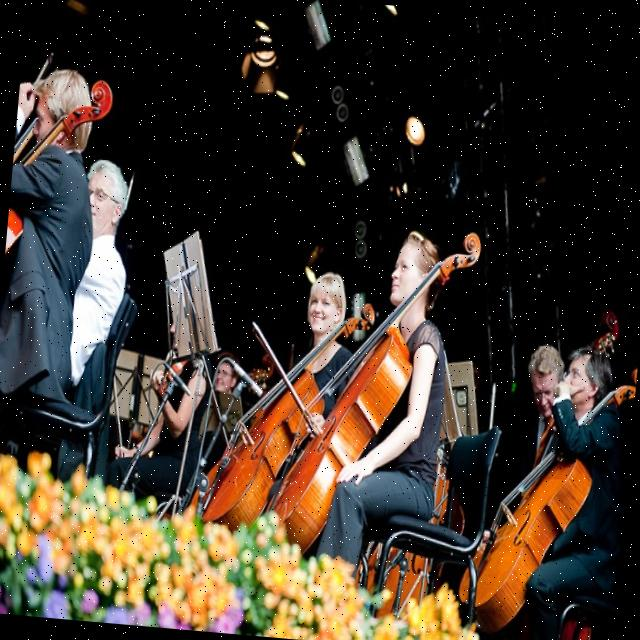cello: (266, 215, 484, 568), (457, 351, 636, 640), (190, 290, 377, 539), (5, 71, 116, 262)
